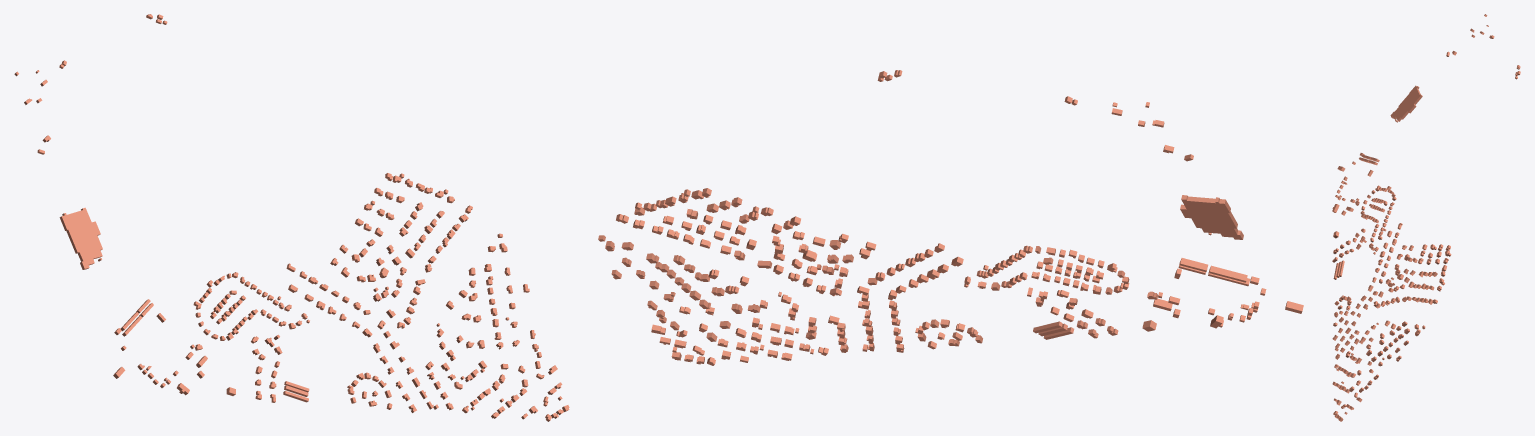
The picture shows the model from 3 angles, left to right: view 1: azimuth 30°, elevation 25°; view 2: azimuth 150°, elevation 25°; view 3: azimuth 270°, elevation 25°; orthographic projection. The views are drawn at different scales.
Visible parts, largest first — view 1: mesh; view 2: mesh; view 3: mesh.
Boxes of the visible parts, x1,y1,x2,y2 form: mesh: (14,14,569,421); mesh: (598,70,1303,365); mesh: (1332,14,1520,421).
Size of the model in its own units: 1713 by 1347 by 885.
